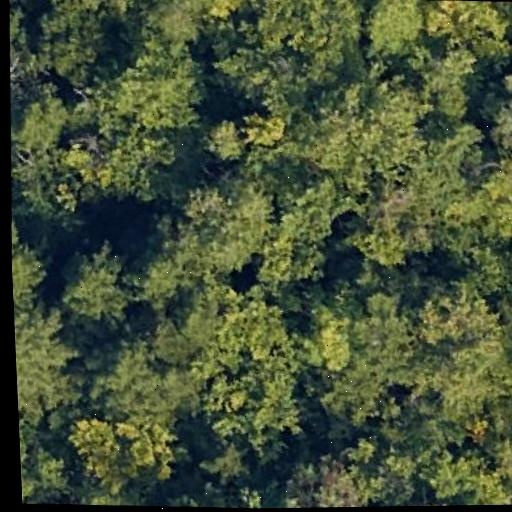tree-top: (191, 305, 310, 457), (286, 67, 427, 182), (394, 286, 512, 412), (162, 172, 279, 276), (78, 331, 203, 428), (100, 29, 206, 133), (64, 409, 189, 494), (69, 115, 177, 200), (353, 167, 447, 262), (240, 0, 366, 66), (26, 0, 119, 83), (14, 303, 81, 418), (53, 239, 133, 333), (216, 34, 310, 112), (268, 167, 358, 242), (266, 451, 374, 508), (290, 296, 360, 380), (358, 289, 418, 387), (423, 113, 488, 201), (415, 449, 512, 506), (460, 146, 512, 250), (7, 83, 72, 160), (410, 0, 512, 49), (419, 43, 479, 124), (356, 0, 434, 61), (124, 242, 186, 307), (10, 229, 54, 313), (19, 430, 69, 499), (477, 55, 512, 141), (370, 443, 417, 507), (153, 480, 252, 509), (55, 479, 154, 507), (193, 433, 249, 479), (237, 103, 289, 151), (6, 0, 35, 85), (202, 114, 244, 167), (487, 418, 512, 482), (25, 0, 123, 12)
